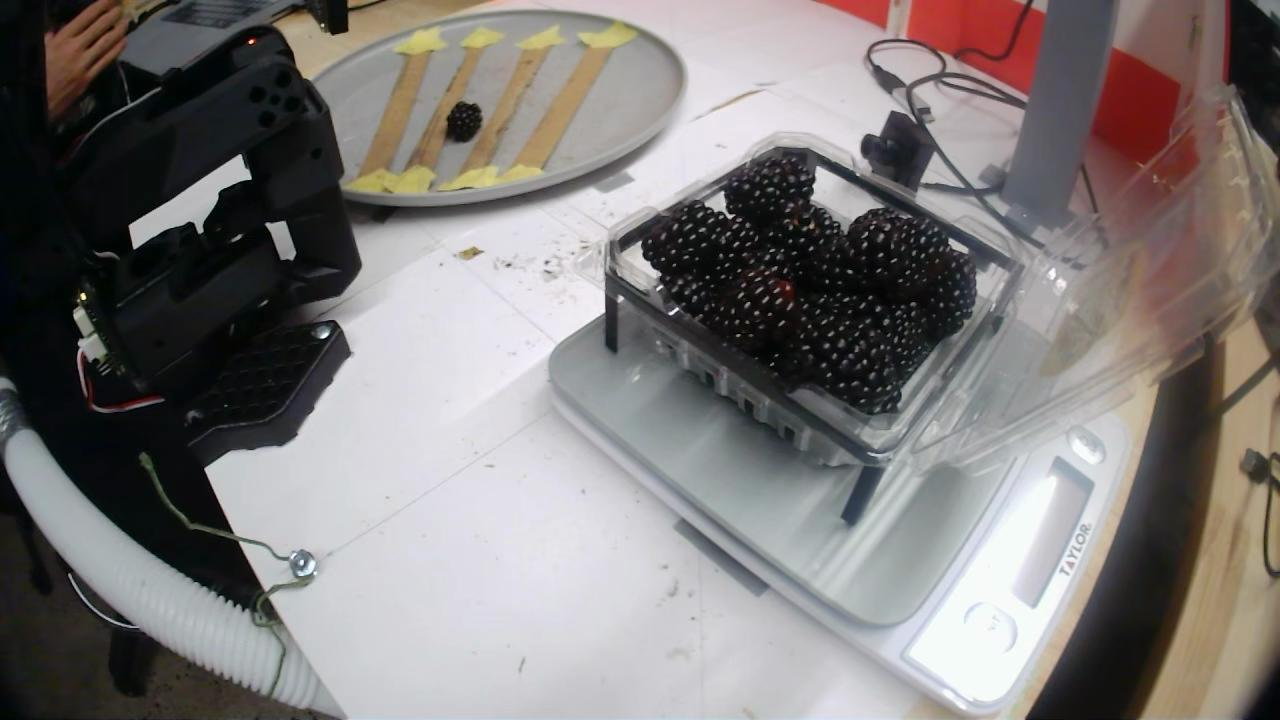berry: (846, 207, 948, 304), (792, 313, 889, 411), (706, 267, 792, 356), (640, 202, 726, 277), (722, 157, 814, 226), (918, 247, 976, 345), (768, 201, 840, 258), (793, 233, 857, 294), (699, 217, 758, 282), (661, 274, 706, 316), (446, 101, 482, 142)
